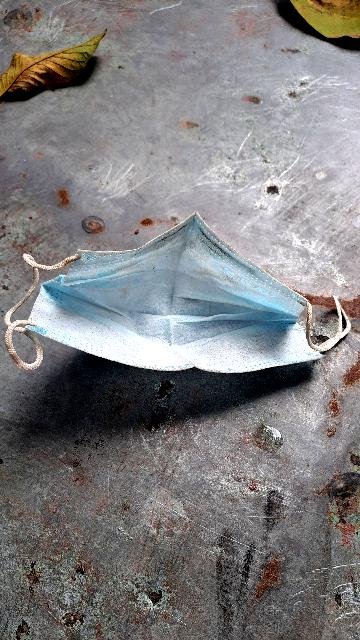mask: (5, 190, 360, 435)
